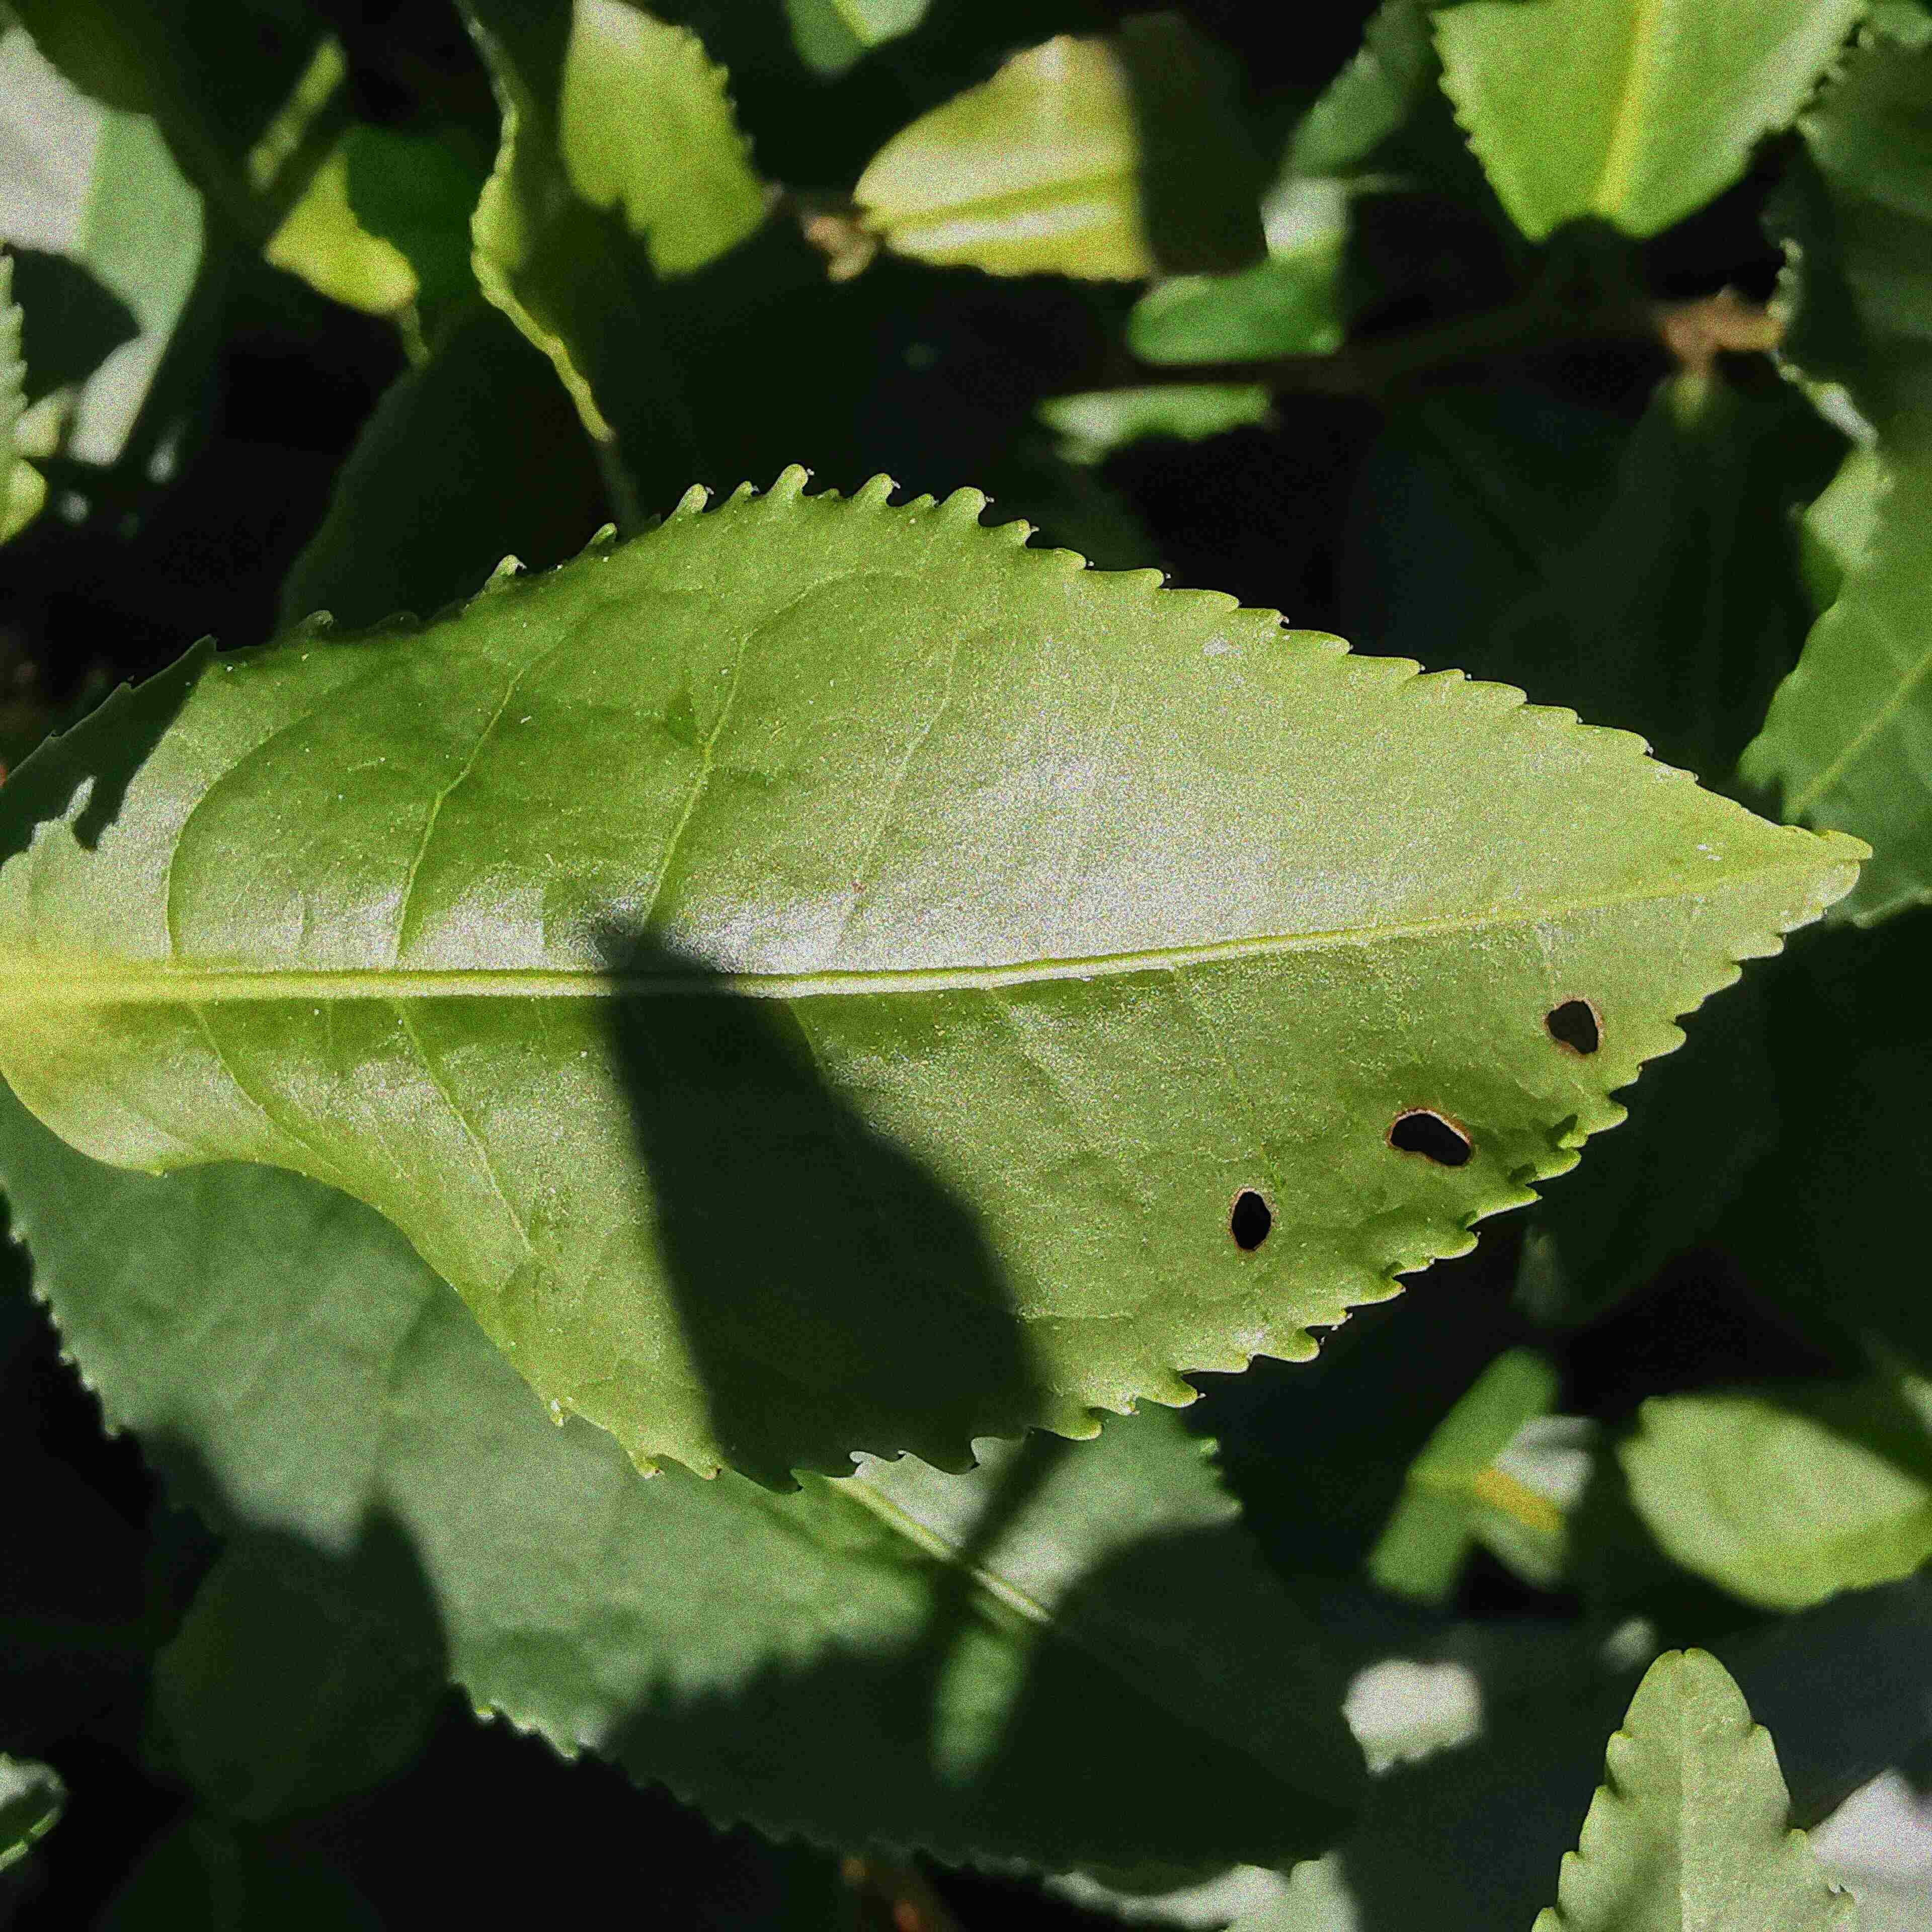chihuo_high: (2, 451, 1874, 1497)
